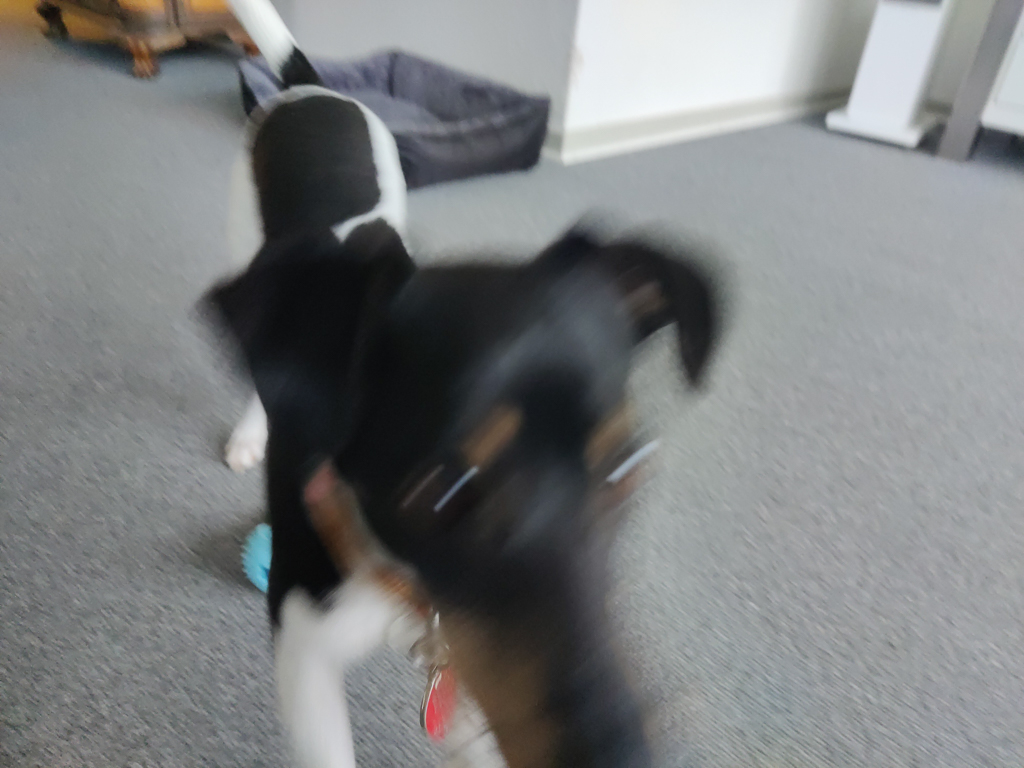Dog: (163, 0, 754, 768)
